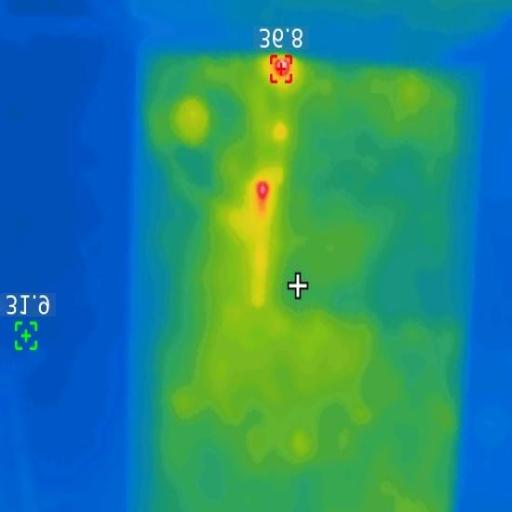hotspot: (268, 54, 296, 84), (254, 181, 274, 201)
